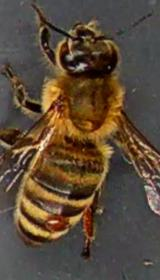varroa_mite: (39, 212, 75, 240)
